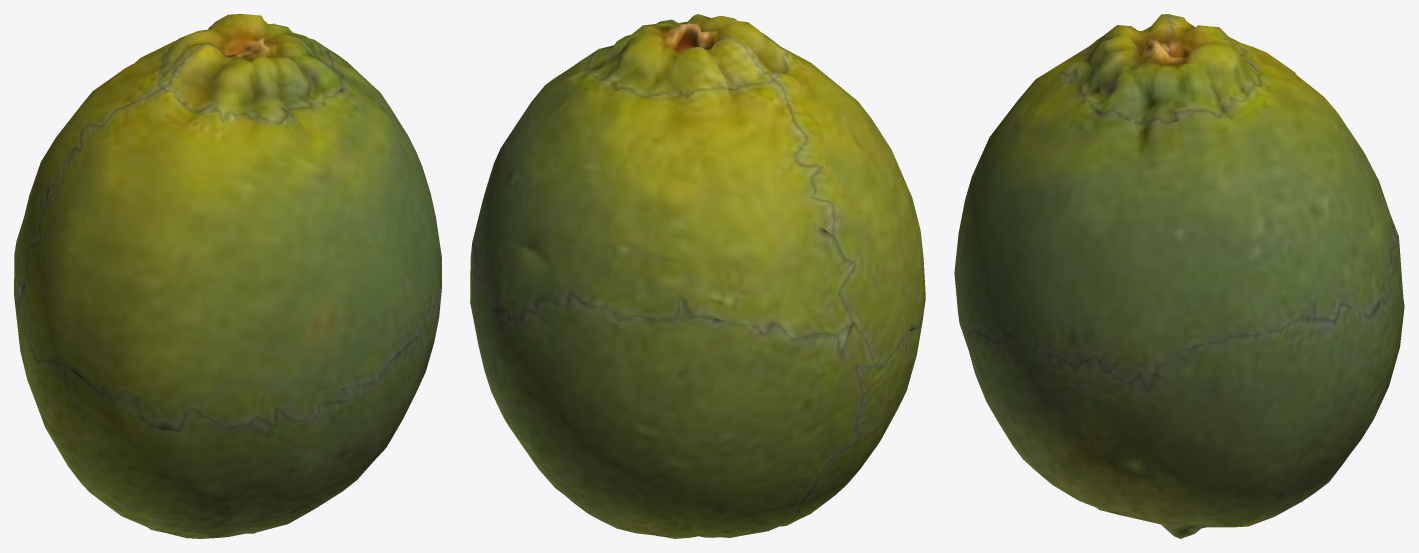
File: lime.glb
The picture shows the model from 3 angles, left to right: view 1: azimuth 30°, elevation 25°; view 2: azimuth 150°, elevation 25°; view 3: azimuth 270°, elevation 25°; orthographic projection.
Visible parts, largest first — view 1: food_lime_01; view 2: food_lime_01; view 3: food_lime_01.
Part boxes in pixels (x1,y1,x2,y2): food_lime_01: [14, 14, 441, 538]; food_lime_01: [470, 14, 925, 538]; food_lime_01: [954, 14, 1404, 538].
Bounding box in the file's own units: 0.0601 × 0.0754 × 0.0613.
Materials: 1 (1 with a texture image).
